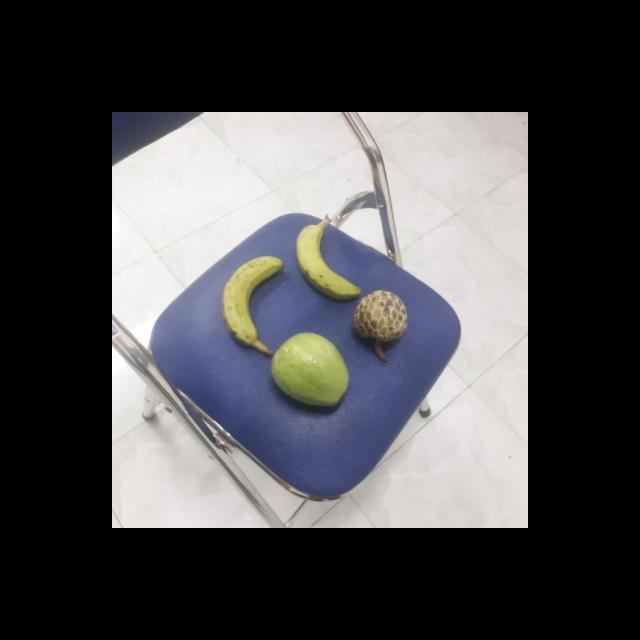Sakya fruit: (350, 291, 408, 356)
banana: (218, 255, 284, 348), (292, 218, 358, 298)
guava: (268, 333, 348, 408)
